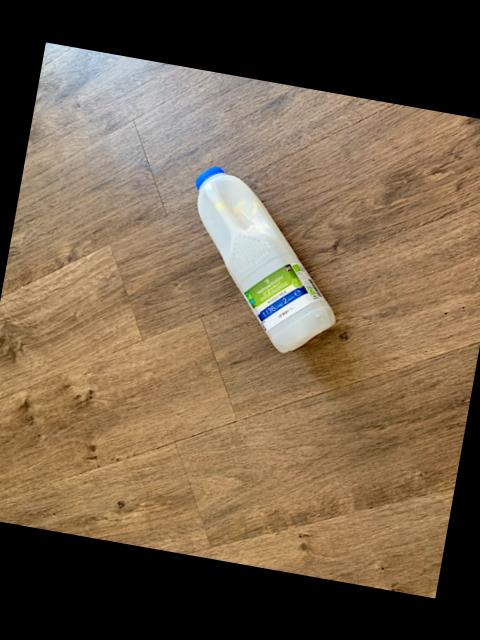plastic: (193, 168, 332, 353)
